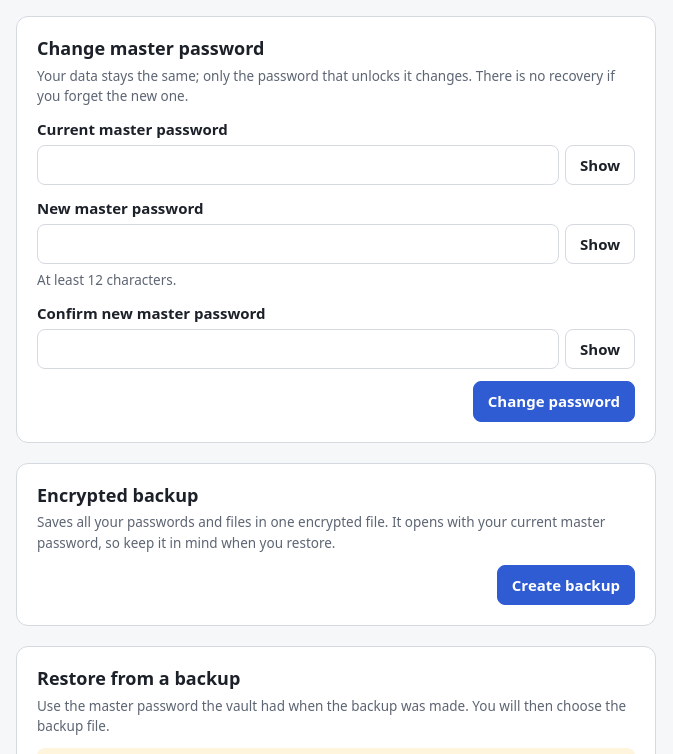
Test case: SettingsTab › shows other errors with their message and no password
The image size is (673, 754).
Type "old test phrase" into the password field labelled "Current master password" at (298, 165), box [37, 144, 559, 185]
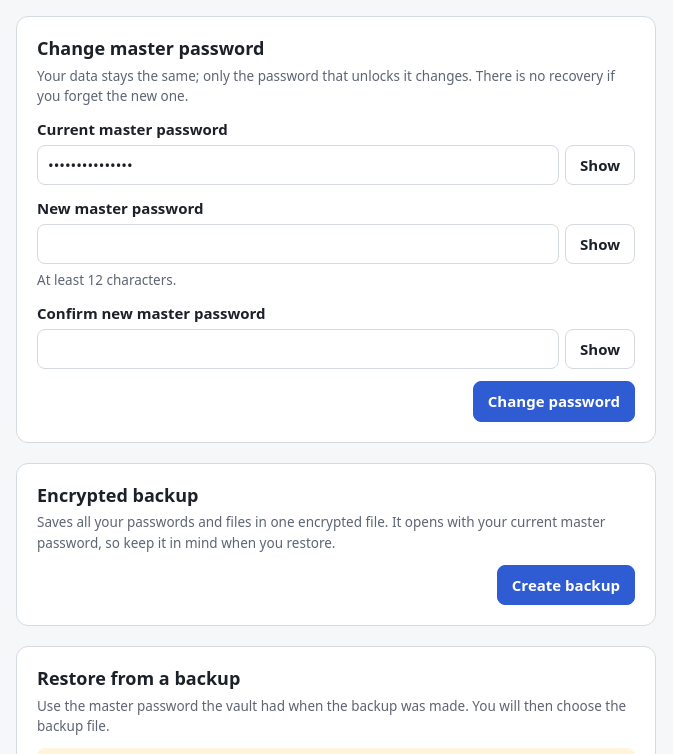
Type "new test phrase!" into the password field labelled "New master password" at (298, 244), box [37, 224, 559, 264]
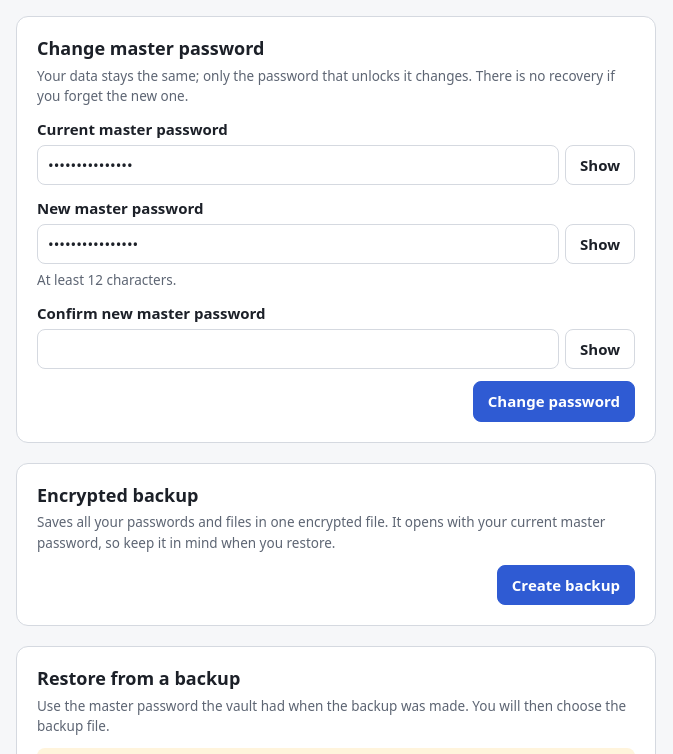
Type "new test phrase!" into the password field labelled "Confirm new master password" at (298, 349), box [37, 329, 559, 369]
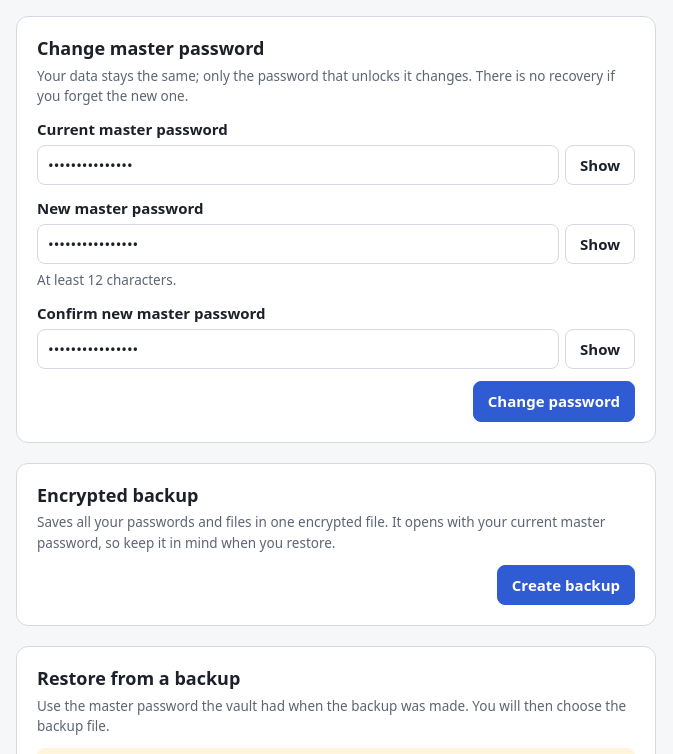
Click the button "Change password" at (554, 402), box [473, 381, 635, 422]
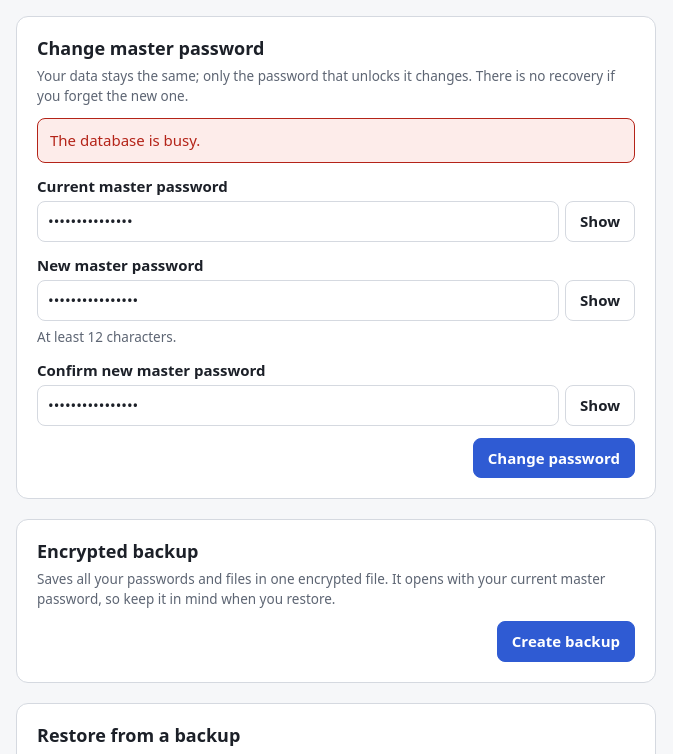
expect the message does not show "old test phrase": met, box [37, 118, 635, 162]
expect the message reads "The database is busy.": met, box [50, 130, 200, 150]
